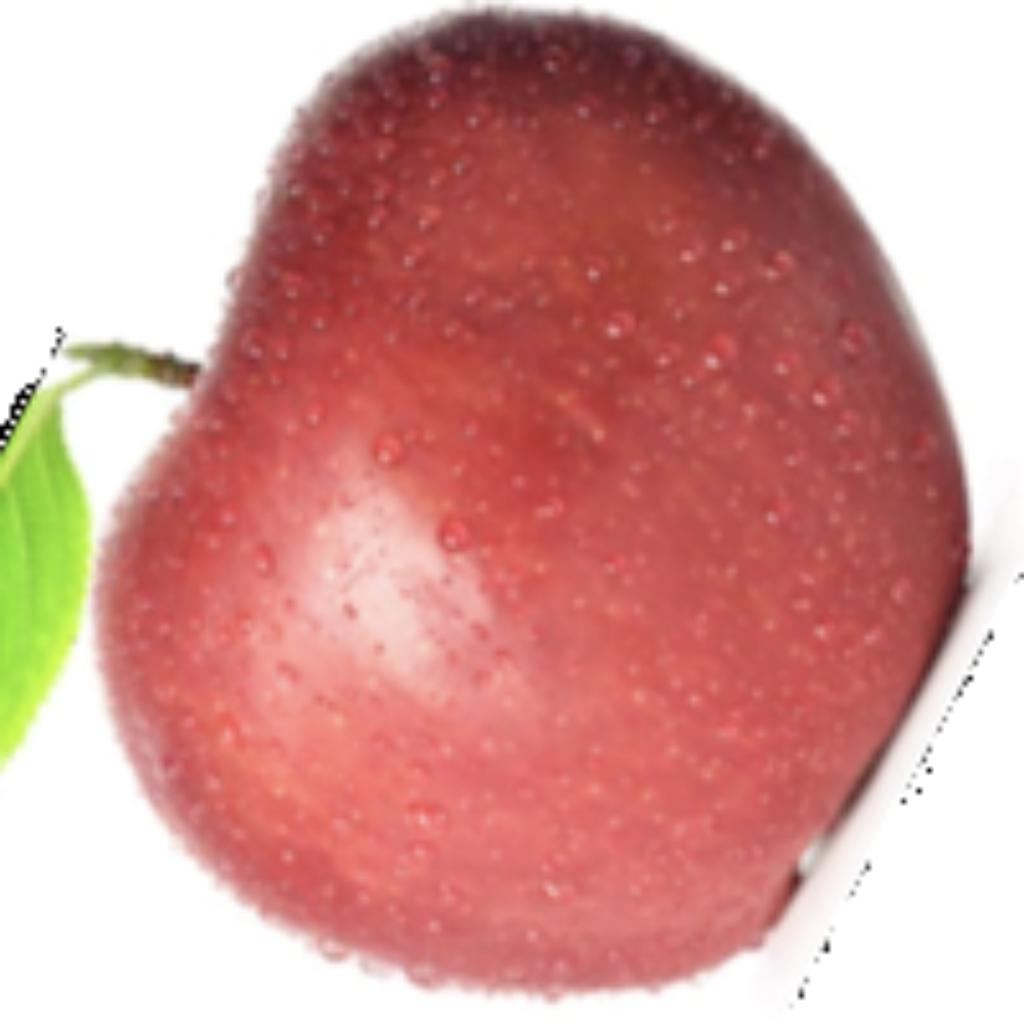apple: (0, 0, 1019, 1009)
